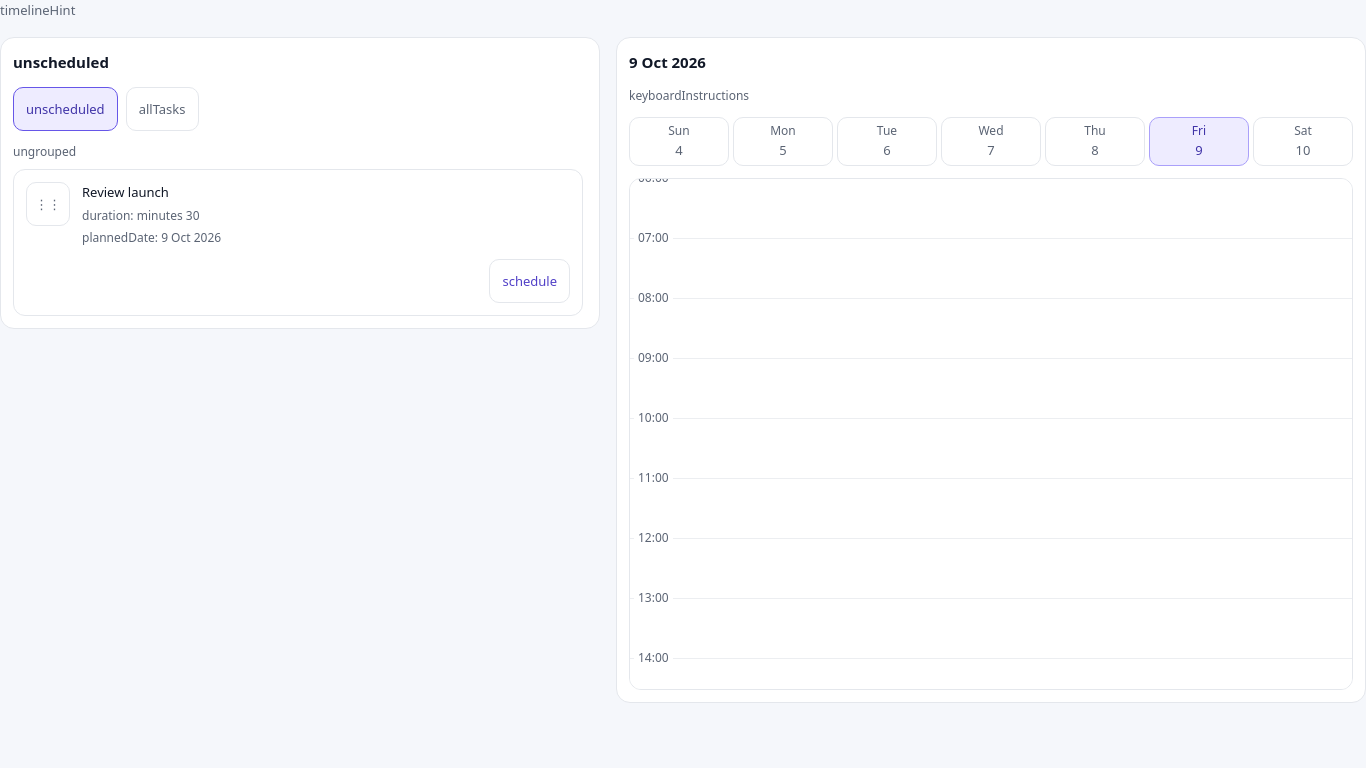
TimelineBoard › opens the schedule dialog, focuses its first field, and cancels on Escape without writing
(page scrolled)
Step 1. Click the button with aria-label "schedule: Review launch" → click(530, 281), box top-left (489, 259), bottom-right (570, 303)
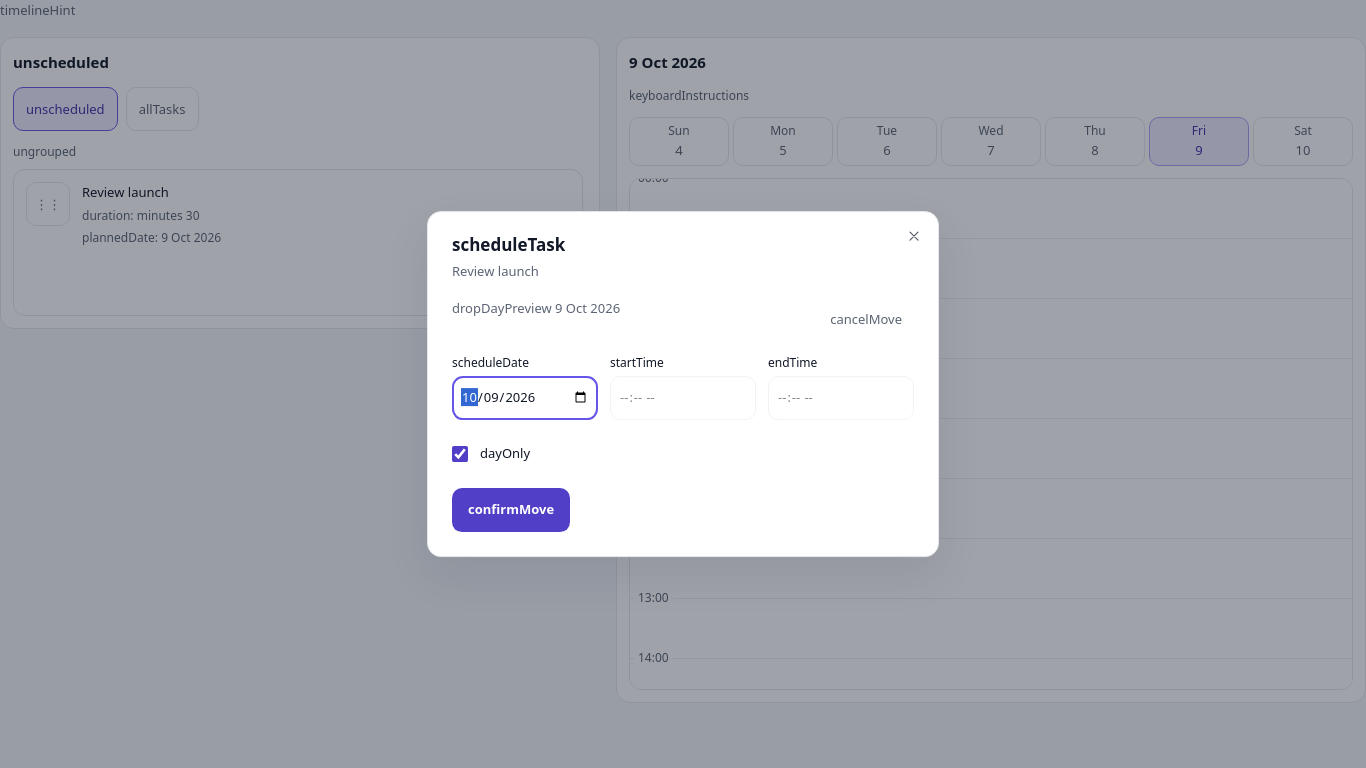
Expected: the dialog "scheduleTask" is shown, top-left (427, 211), bottom-right (939, 557)
Step 2. Press Escape
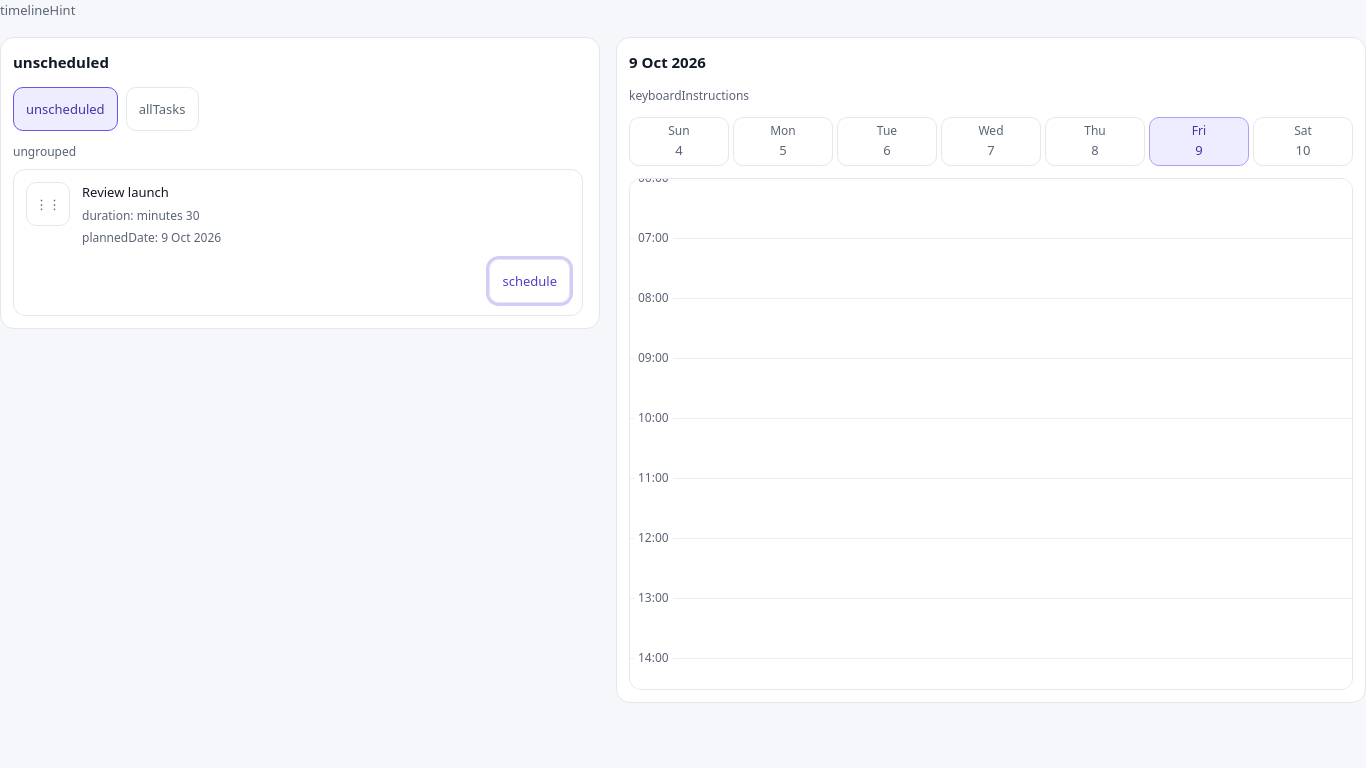
Expected: the heading "scheduleTask" is gone
